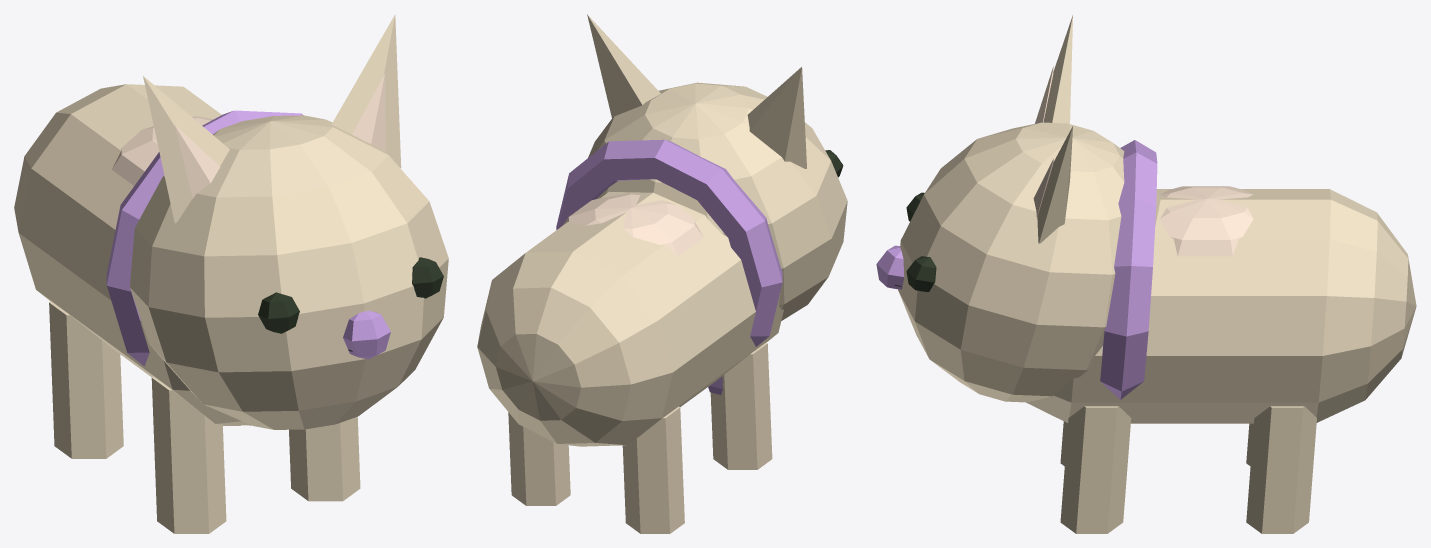
The model's file is bean-jungle-1.glb.
3 renders of one model, left to right at view 1: azimuth 30°, elevation 25°; view 2: azimuth 150°, elevation 25°; view 3: azimuth 270°, elevation 25°, orthographic. The views are drawn at different scales.
Visible parts, largest first — view 1: bean-jungle-1; view 2: bean-jungle-1; view 3: bean-jungle-1.
Boxes of the visible parts, bbox=[...] form: bean-jungle-1: bbox=[14, 14, 448, 533]; bean-jungle-1: bbox=[477, 14, 847, 533]; bean-jungle-1: bbox=[876, 15, 1416, 533].
Size of the model in its own units: 0.4411 by 0.7 by 0.8098.
